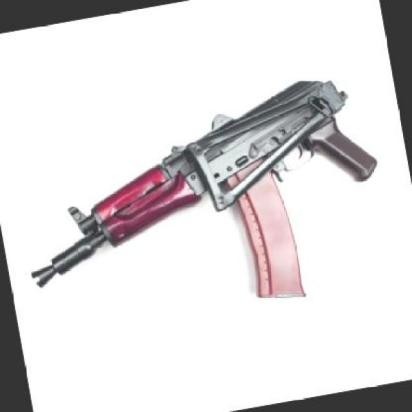Gun: (31, 80, 378, 296)
